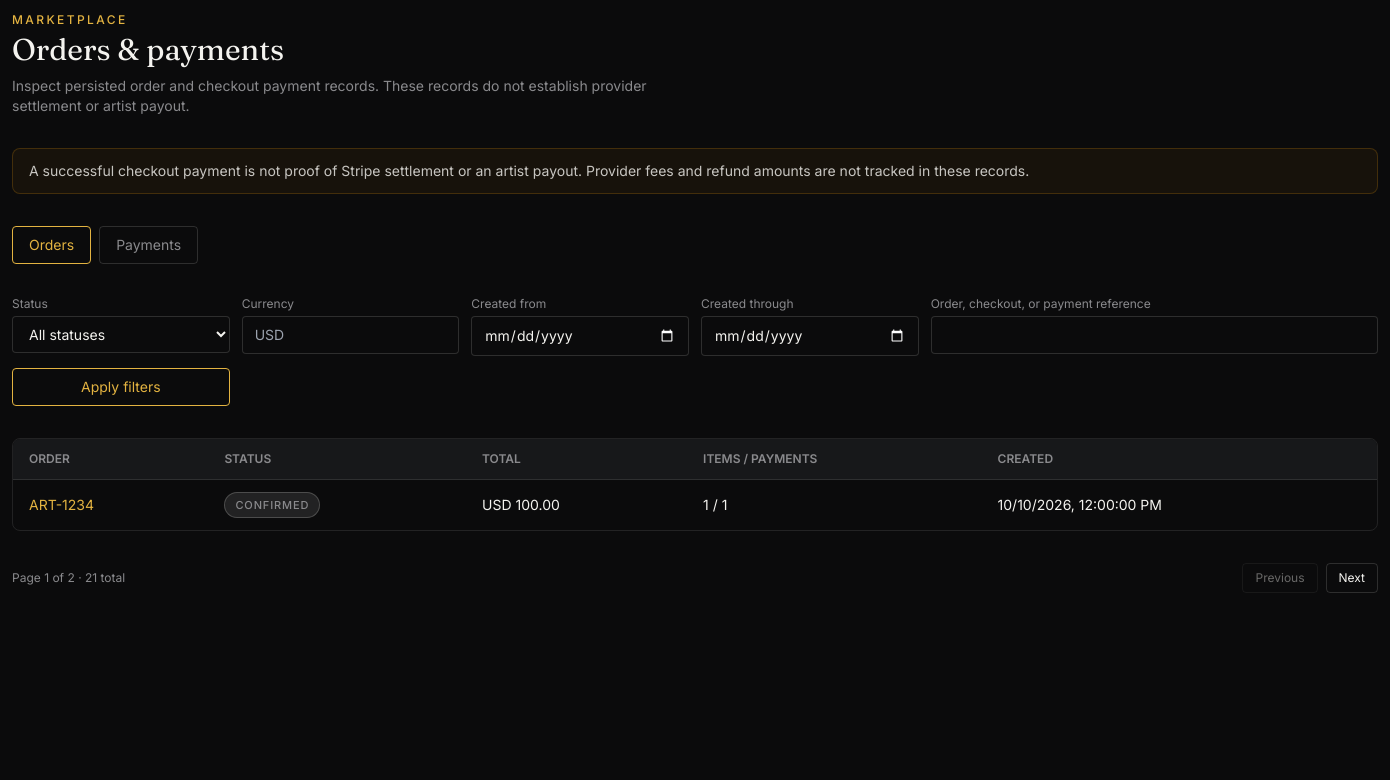
Test: admin orders and payments page › requests the next page using the shared admin pagination control
Expected: the button "ART-1234" is shown, [29,495,94,515]
Click the button "Next": coordinates (1352, 578) [1326,563,1378,593]
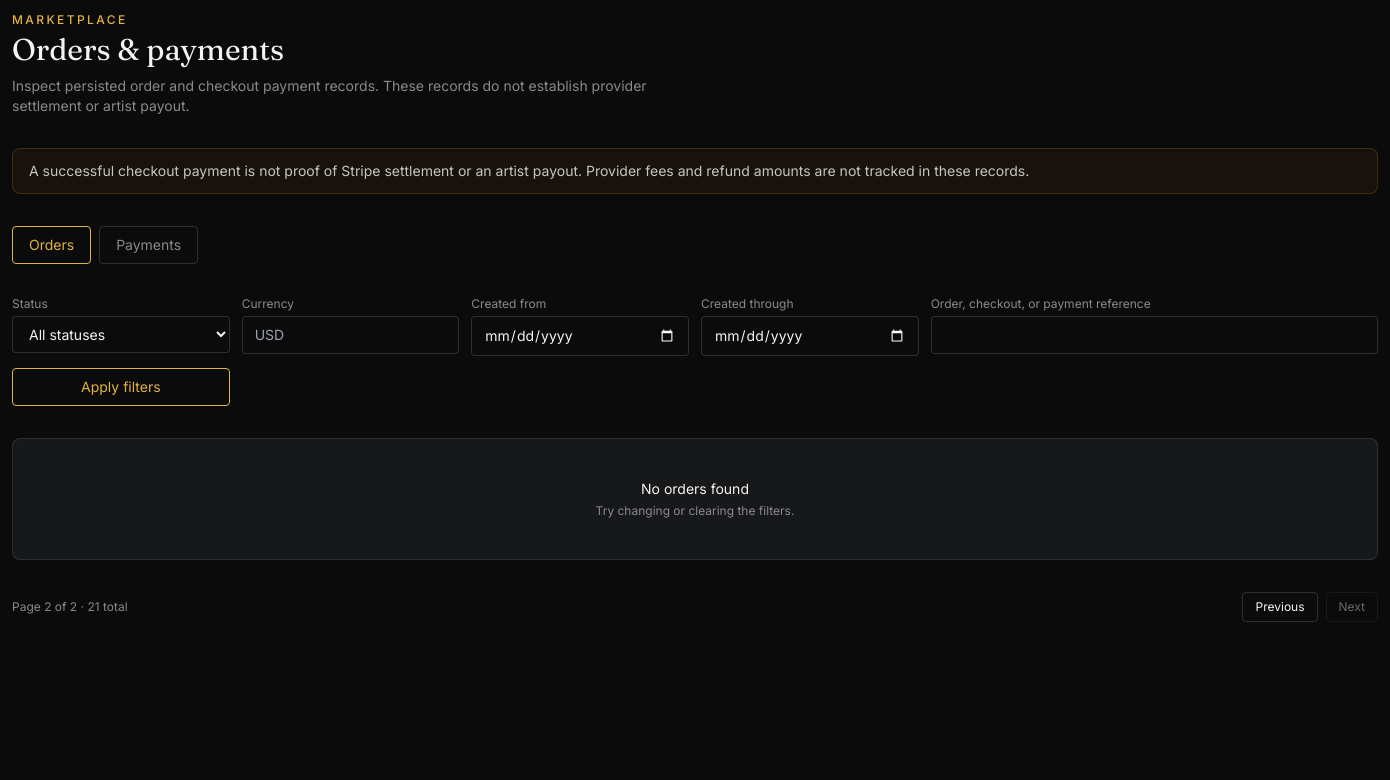
Expected: the text "No orders found" is shown, [641,480,749,497]
